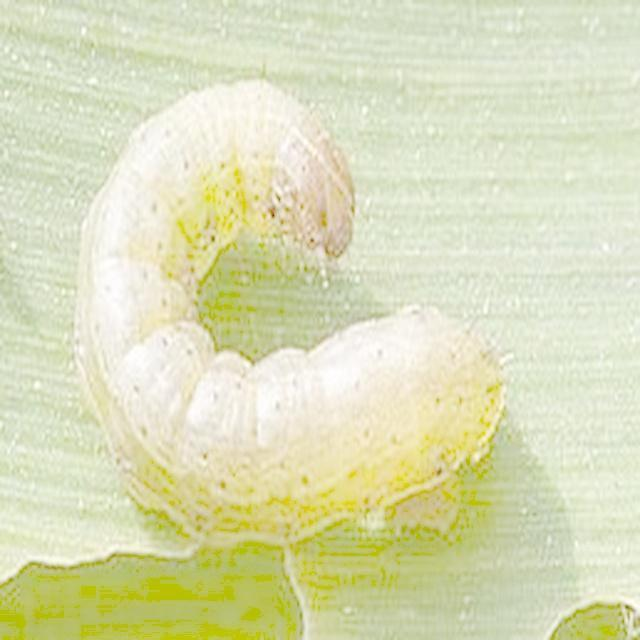gusano_cogollero: (81, 75, 506, 530)
